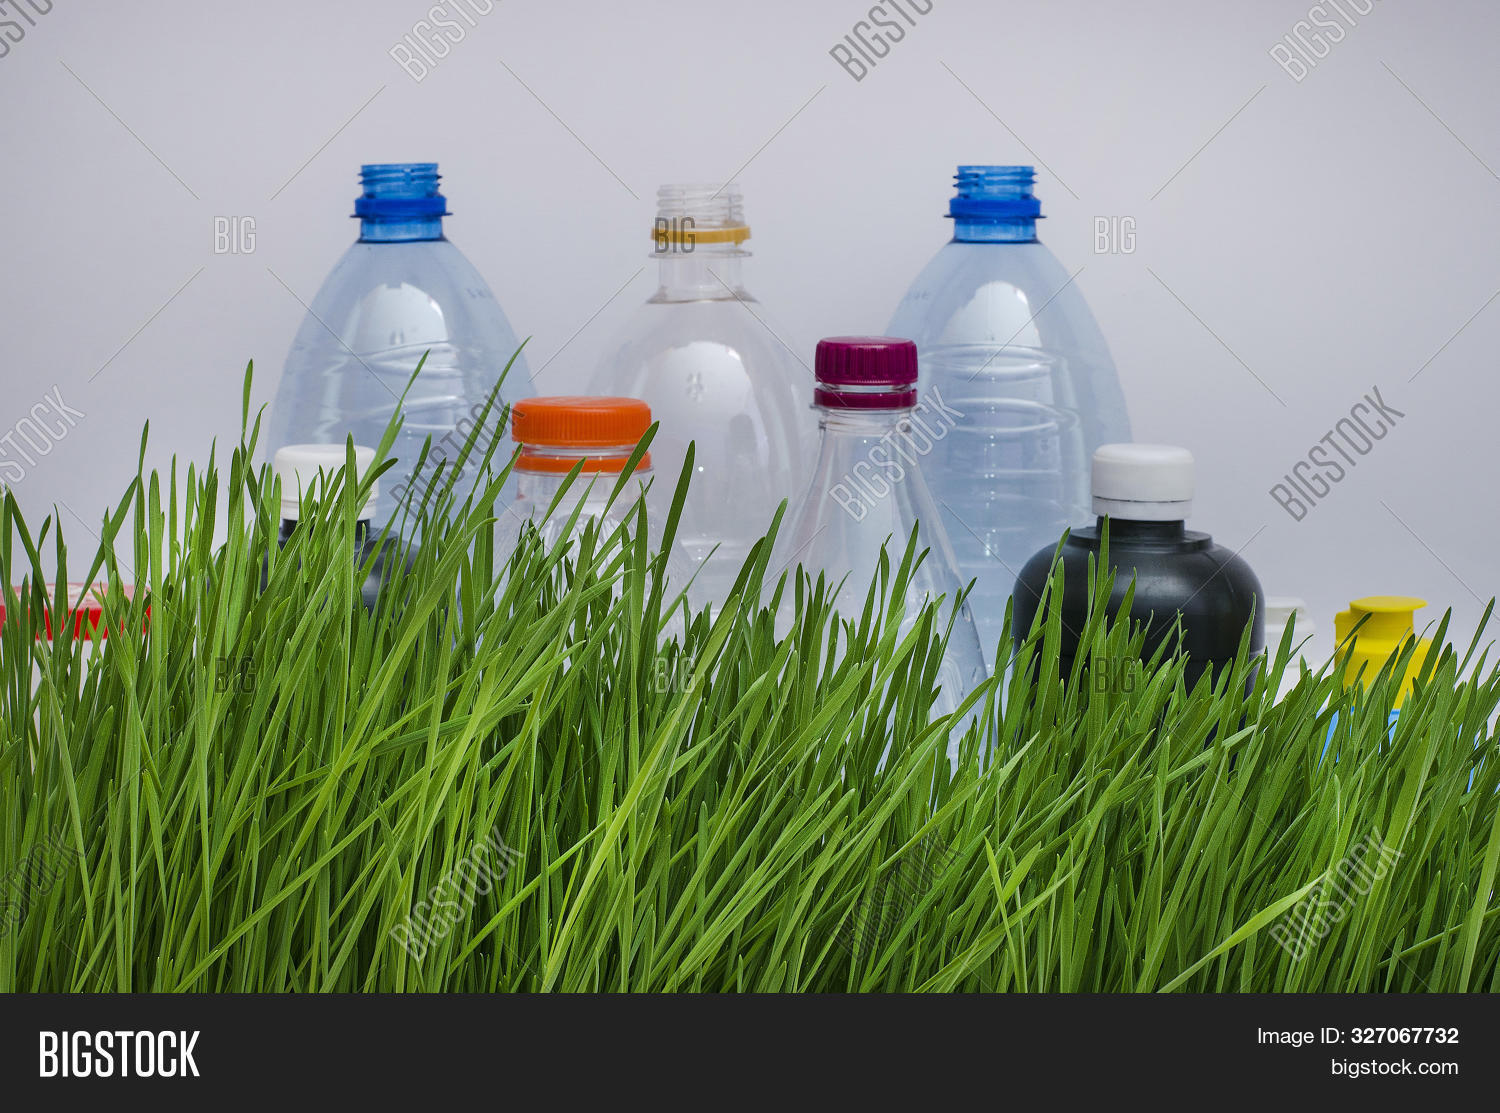plastic_bottle: (241, 144, 513, 565), (597, 179, 795, 670), (899, 151, 1140, 433), (777, 322, 974, 647)
